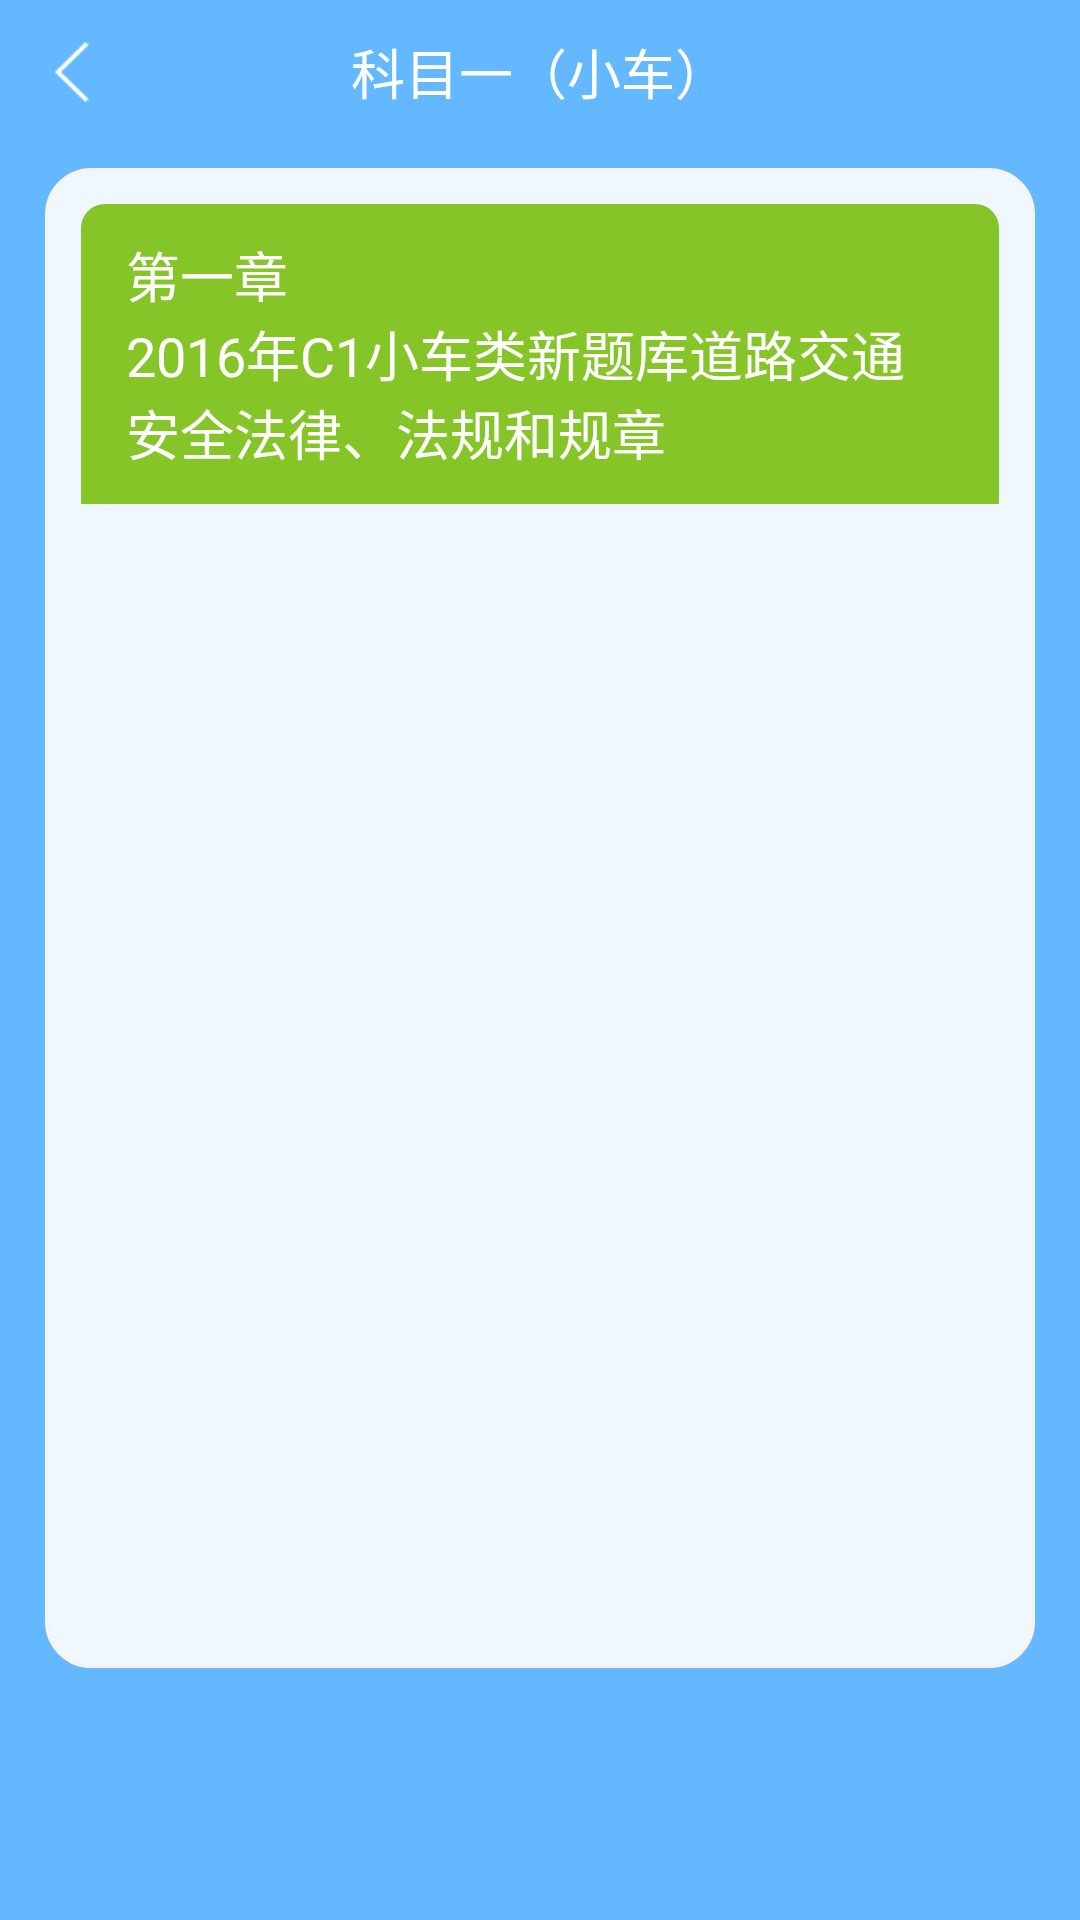

Named icons in this screenshot (1080*1920) and their centers, (x,y):
back: (72,72)
